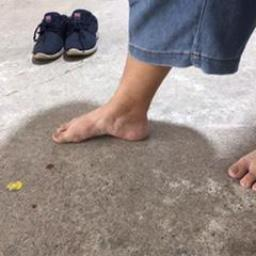Medial View -Right Foot-: (48, 77, 165, 147)
